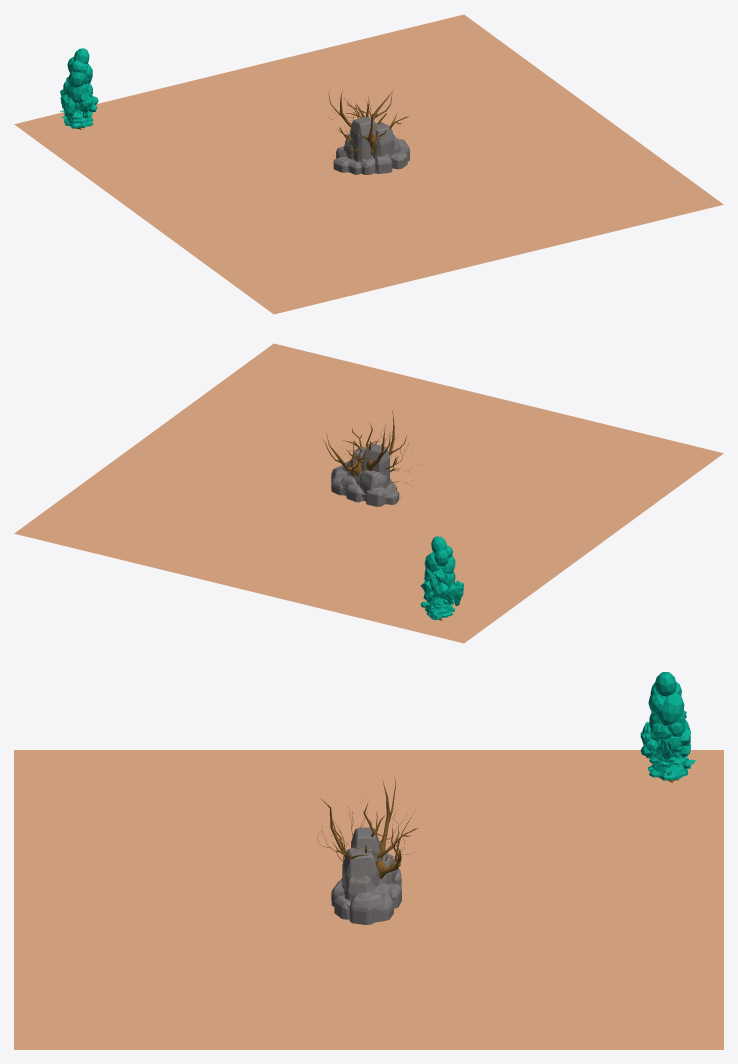
The model's file is NatureAssetsV2.fbx.
3 views of the same model, one above another, from view 1: azimuth 30°, elevation 25°; view 2: azimuth 150°, elevation 25°; view 3: azimuth 270°, elevation 25° (orthographic). The views are drawn at different scales.
Parts seen in each view (by area): view 1: Sand_Floor, Rock_1, Tree_9, Dead_Tree_3; view 2: Sand_Floor, Rock_1, Tree_9, Dead_Tree_3; view 3: Sand_Floor, Rock_1, Tree_9, Dead_Tree_3.
Part boxes in pixels (bbox=[...]): Sand_Floor: bbox=[14, 14, 723, 314]; Rock_1: bbox=[333, 116, 409, 174]; Tree_9: bbox=[66, 48, 92, 102]; Dead_Tree_3: bbox=[328, 90, 393, 154]; Sand_Floor: bbox=[14, 343, 723, 643]; Rock_1: bbox=[331, 444, 399, 506]; Tree_9: bbox=[424, 536, 455, 584]; Dead_Tree_3: bbox=[322, 410, 406, 475]; Sand_Floor: bbox=[14, 750, 723, 1049]; Rock_1: bbox=[331, 827, 401, 924]; Tree_9: bbox=[648, 672, 685, 736]; Dead_Tree_3: bbox=[320, 776, 415, 879].
Bounding box in the file's own units: 510 × 89.15 × 510.
